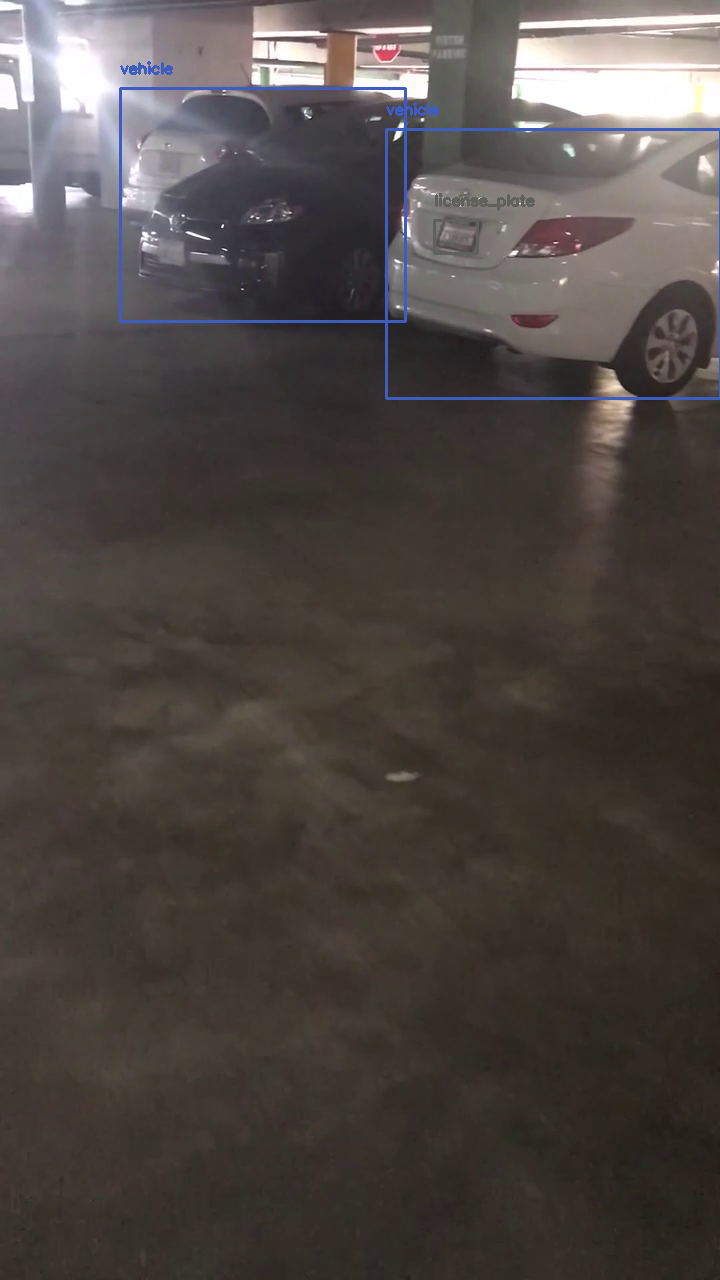license_plate: (434, 220, 477, 253)
vehicle: (386, 129, 720, 398), (120, 88, 405, 321)
